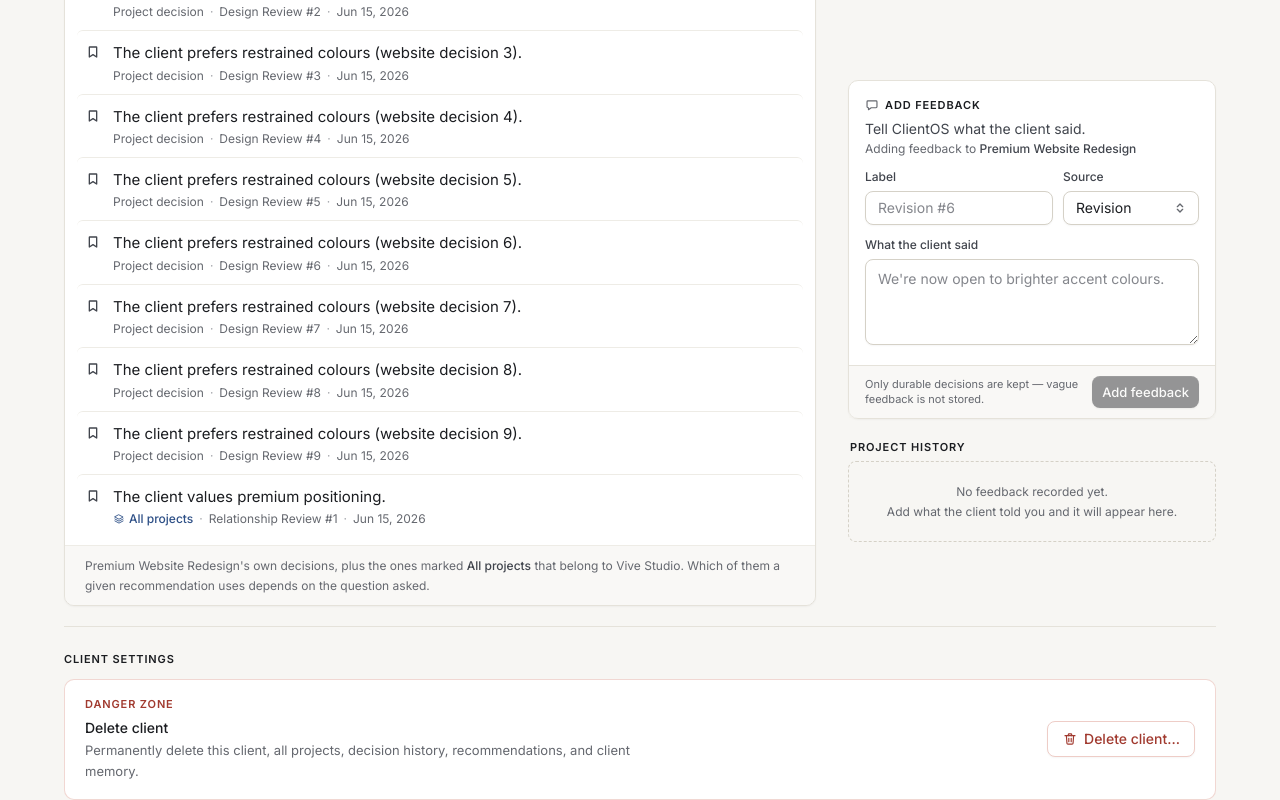
Test case: Delete client — action and dialog › Escape closes it when idle
(page scrolled)
Click the button "Delete client…".
click(1121, 739)  # box [1047,721,1195,757]
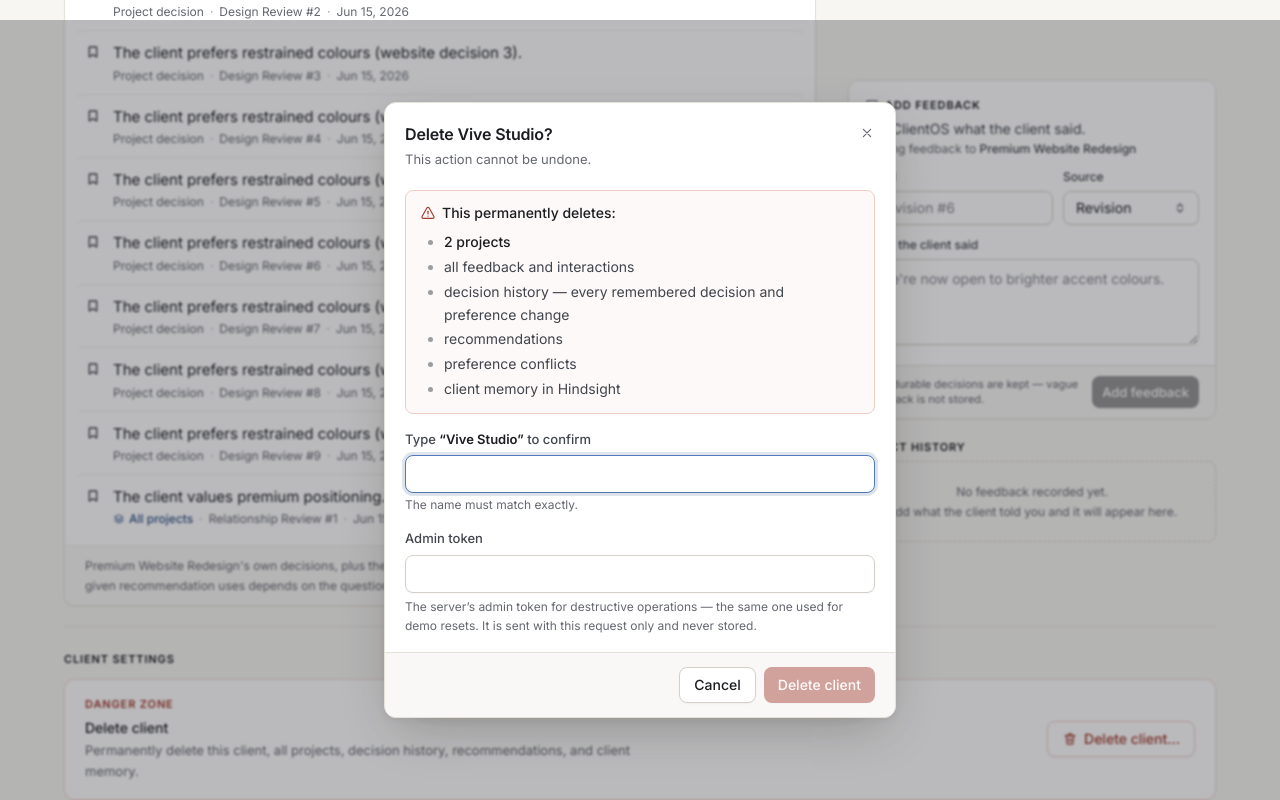
Press Escape
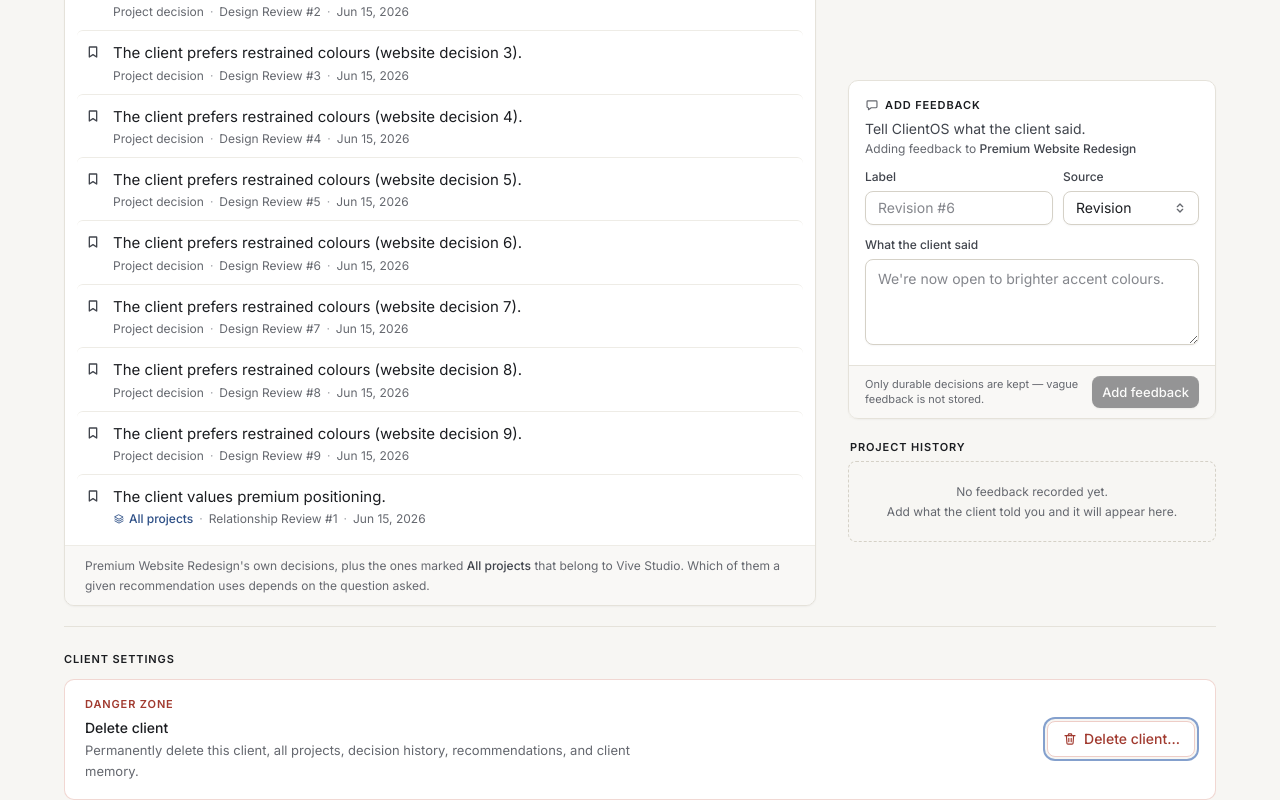
Check: the dialog is gone
